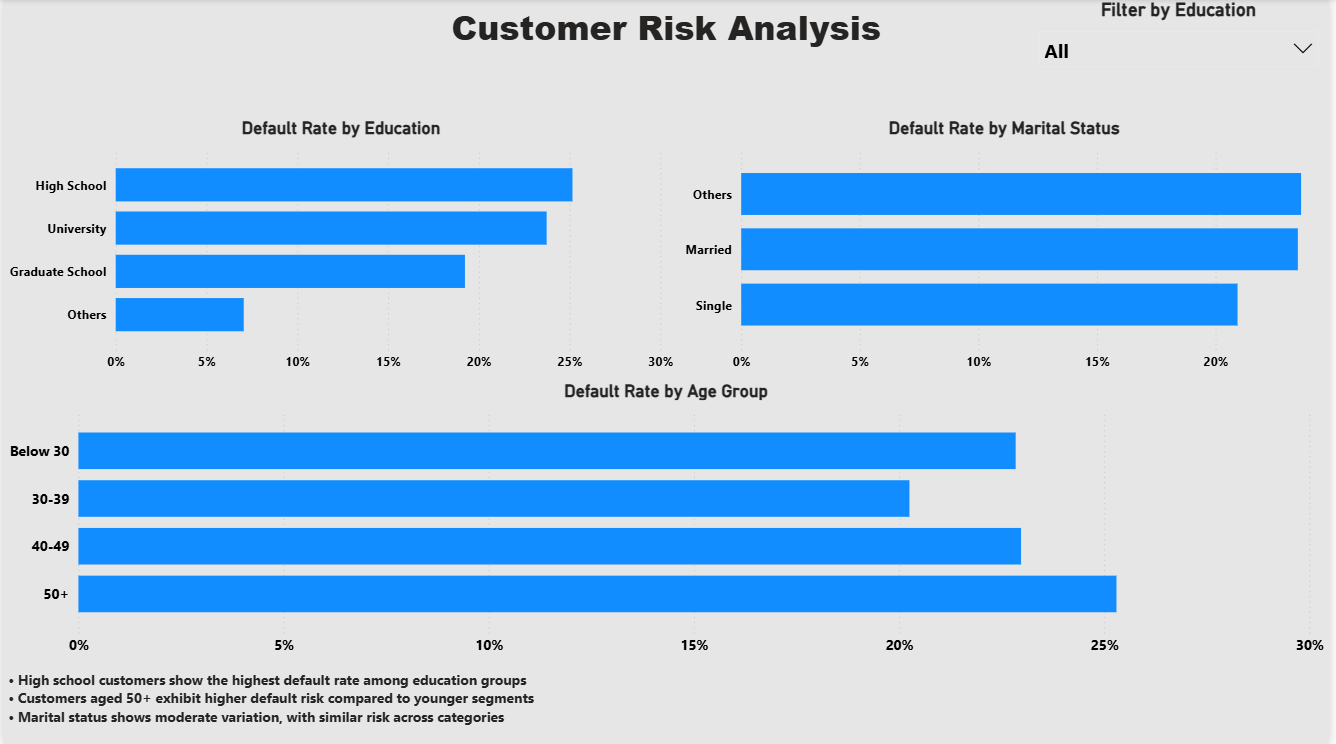

This screenshot's page, from the dashboard's own definition file:
{"tool":"powerbi","page":{"name":"Risk Analysis","canvas":[1280,720],"ordinal":1},"visuals":[{"type":"textbox","box":[0,0,1280.3,59.9],"z":7},{"type":"barChart","title":"Default Rate by Education","fields":{"Category":["credit_card_risk_analysis credit_card_clean.education_group"],"Y":["credit_card_risk_analysis credit_card_clean.Default Rate %"]},"box":[0,114.6,652.7,253.4],"z":8},{"type":"barChart","title":"Default Rate by Marital Status","fields":{"Category":["credit_card_risk_analysis credit_card_clean.marital_status"],"Y":["credit_card_risk_analysis credit_card_clean.Default Rate %"]},"box":[652.7,114.6,627.3,253.4],"z":9},{"type":"clusteredBarChart","title":"Default Rate by Age Group","fields":{"Y":["credit_card_risk_analysis credit_card_clean.Default Rate %"],"Category":["credit_card_risk_analysis credit_card_clean.age_group"]},"box":[0,368,1280,275.1],"z":10},{"type":"slicer","title":"Filter by Education ","fields":{"Values":["credit_card_risk_analysis credit_card_clean.education_group"]},"box":[989.3,0,290.8,72.4],"z":11},{"type":"textbox","box":[0,643,1280,77.2],"z":12}]}

Visuals, with their boxes in screenshot pixels (x1, y1, x2, y2), scaled from the page's 1280x720 canvas onto the 1336x744 screenshot:
textbox: [0,0,1335,62]
"Default Rate by Education" barChart: [0,118,681,380]
"Default Rate by Marital Status" barChart: [681,118,1335,380]
"Default Rate by Age Group" clusteredBarChart: [0,380,1335,665]
"Filter by Education " slicer: [1033,0,1335,75]
textbox: [0,664,1335,743]
